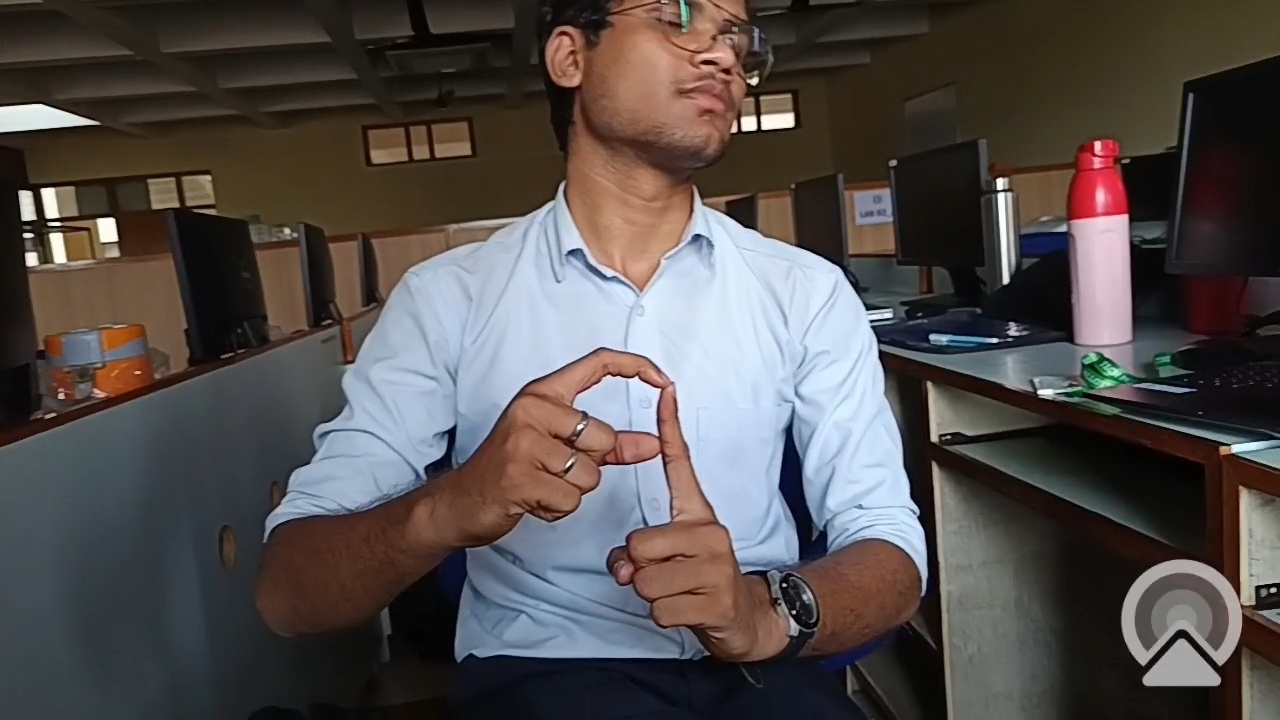P: (444, 331, 804, 652)
